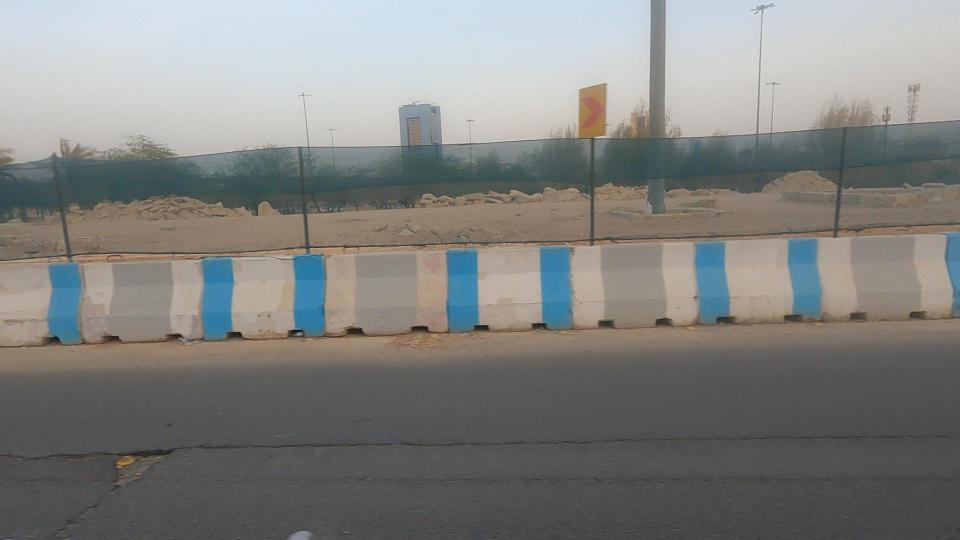CONSTRUCTION_ROAD: (0, 82, 535, 419), (500, 70, 960, 375), (314, 82, 645, 375)
